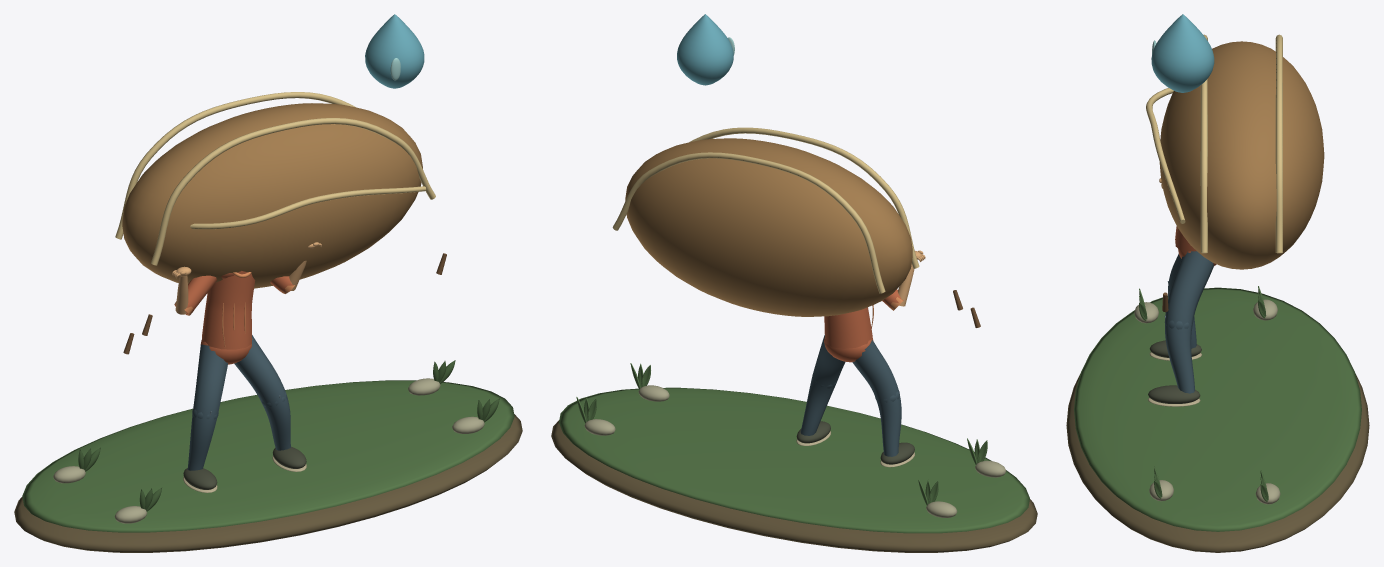
The model's file is too-much.glb.
3 views of the same model, side by side, from view 1: azimuth 30°, elevation 25°; view 2: azimuth 150°, elevation 25°; view 3: azimuth 270°, elevation 25° (orthographic). The views are drawn at different scales.
Parts seen in each view (by area): view 1: too-much_surface_01, too-much_surface_14, too-much_surface_00, too-much_surface_15, too-much_surface_10, too-much_surface_03, too-much_surface_16, too-much_surface_02, too-much_surface_11, too-much_surface_04; view 2: too-much_surface_01, too-much_surface_14, too-much_surface_00, too-much_surface_10, too-much_surface_15, too-much_surface_16, too-much_surface_03, too-much_surface_02, too-much_surface_11; view 3: too-much_surface_01, too-much_surface_14, too-much_surface_00, too-much_surface_10, too-much_surface_15, too-much_surface_16, too-much_surface_02, too-much_surface_11.
Boxes of the visible parts, left/top/right/bottom form: too-much_surface_01: left=22, top=360, right=514, bottom=532; too-much_surface_14: left=122, top=103, right=422, bottom=288; too-much_surface_00: left=14, top=414, right=522, bottom=552; too-much_surface_15: left=115, top=92, right=435, bottom=265; too-much_surface_10: left=187, top=335, right=290, bottom=470; too-much_surface_03: left=175, top=271, right=292, bottom=364; too-much_surface_16: left=365, top=14, right=424, bottom=88; too-much_surface_02: left=53, top=378, right=484, bottom=523; too-much_surface_11: left=183, top=446, right=306, bottom=489; too-much_surface_04: left=172, top=242, right=321, bottom=314; too-much_surface_01: left=559, top=363, right=1029, bottom=533; too-much_surface_14: left=625, top=138, right=912, bottom=316; too-much_surface_00: left=551, top=420, right=1037, bottom=552; too-much_surface_10: left=800, top=335, right=901, bottom=456; too-much_surface_15: left=612, top=127, right=919, bottom=293; too-much_surface_16: left=677, top=14, right=733, bottom=85; too-much_surface_03: left=824, top=289, right=903, bottom=362; too-much_surface_02: left=584, top=385, right=1006, bottom=517; too-much_surface_11: left=796, top=421, right=914, bottom=464; too-much_surface_01: left=1074, top=286, right=1361, bottom=531; too-much_surface_14: left=1159, top=41, right=1324, bottom=269; too-much_surface_00: left=1066, top=373, right=1369, bottom=552; too-much_surface_10: left=1164, top=251, right=1214, bottom=393; too-much_surface_15: left=1146, top=34, right=1282, bottom=253; too-much_surface_16: left=1151, top=14, right=1214, bottom=92; too-much_surface_02: left=1134, top=299, right=1280, bottom=504; too-much_surface_11: left=1148, top=340, right=1201, bottom=403.
Size of the model in its own units: 4.76 by 4.31 by 2.42.
